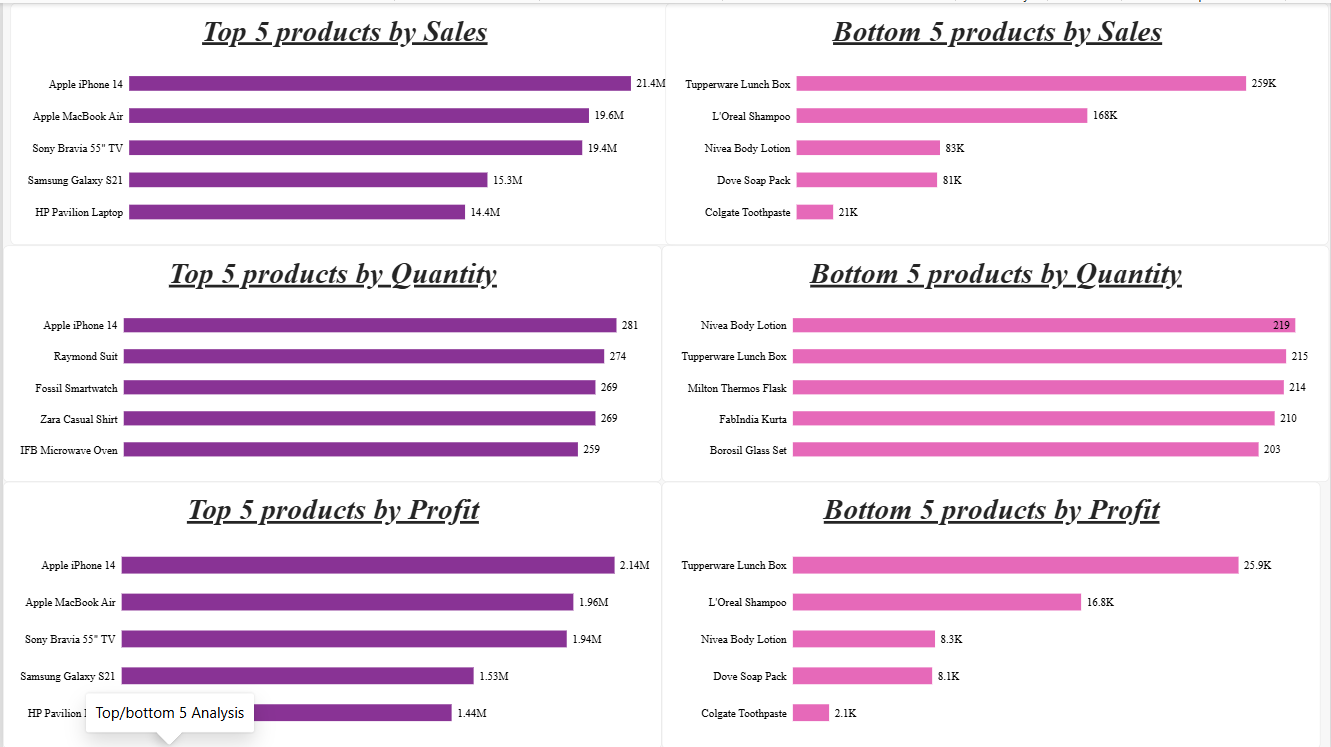

Layout of this report page (visuals, bound fields, positions):
{"tool":"powerbi","page":{"name":"Top/bottom 5 Analysis","canvas":[1920,1080],"ordinal":1},"visuals":[{"type":"barChart","title":"Top 5 products by Sales ","fields":{"Category":["Dim Product.Product Name"],"Y":["Sum(Fact Table.Net Sales  )"]},"box":[10.7,0,966.4,350.6],"z":0},{"type":"barChart","title":"Bottom 5 products by Sales ","fields":{"Category":["Dim Product.Product Name"],"Y":["Sum(Fact Table.Net Sales  )"]},"box":[960,0,960,350.6],"z":1},{"type":"barChart","title":"Top 5 products by Quantity ","fields":{"Category":["Dim Product.Product Name"],"Y":["Sum(Fact Table.Units Sold)"]},"box":[0,350.6,953.6,342.1],"z":2},{"type":"barChart","title":"Bottom 5 products by Quantity ","fields":{"Category":["Dim Product.Product Name"],"Y":["Sum(Fact Table.Units Sold)"]},"box":[953.6,350.6,966.4,342.1],"z":3},{"type":"barChart","title":"Top 5 products by Profit ","fields":{"Category":["Dim Product.Product Name"],"Y":["Sum(Fact Table.Profit)"]},"box":[0,692.7,953.6,387],"z":4},{"type":"barChart","title":"Bottom 5 products by Profit ","fields":{"Category":["Dim Product.Product Name"],"Y":["Sum(Fact Table.Profit)"]},"box":[953.6,692.7,953.6,387],"z":5}]}

Visuals, with their boxes on the page's 1920x1080 design canvas (x1, y1, x2, y2). These are canvas units, not pixel positions in the 1331x747 screenshot, which may show the page scaled, cropped or inside an application window:
"Top 5 products by Sales " barChart: pyautogui.locateOnScreen(11, 0, 977, 351)
"Bottom 5 products by Sales " barChart: pyautogui.locateOnScreen(960, 0, 1920, 351)
"Top 5 products by Quantity " barChart: pyautogui.locateOnScreen(0, 351, 954, 693)
"Bottom 5 products by Quantity " barChart: pyautogui.locateOnScreen(954, 351, 1920, 693)
"Top 5 products by Profit " barChart: pyautogui.locateOnScreen(0, 693, 954, 1080)
"Bottom 5 products by Profit " barChart: pyautogui.locateOnScreen(954, 693, 1907, 1080)
